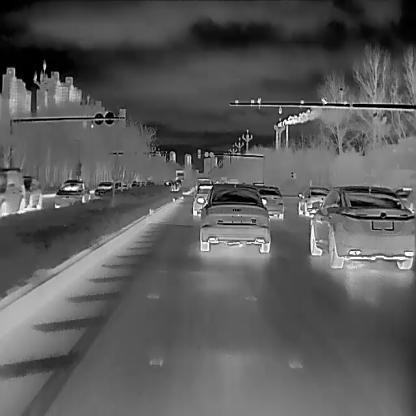car: (309, 185, 415, 268), (199, 183, 271, 253), (0, 168, 25, 217), (53, 181, 89, 210), (257, 185, 284, 220), (297, 187, 328, 216), (19, 176, 42, 214), (193, 183, 216, 215), (92, 181, 112, 203), (195, 178, 211, 194)
sign: (104, 108, 116, 125), (91, 111, 105, 125)
